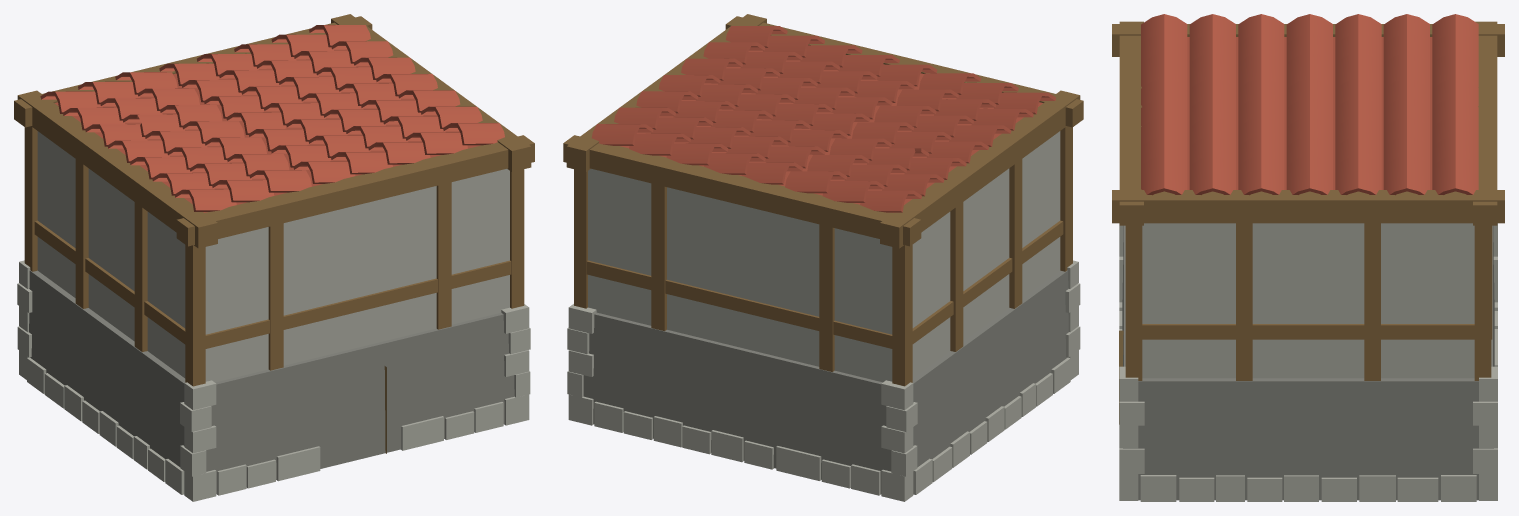
The model's file is casitaStorage.fbx.
3 renders of one model, left to right at view 1: azimuth 30°, elevation 25°; view 2: azimuth 150°, elevation 25°; view 3: azimuth 270°, elevation 25°, orthographic. The views are drawn at different scales.
Parts seen in each view (by area): view 1: Storage_SecondAge_Level2; view 2: Storage_SecondAge_Level2; view 3: Storage_SecondAge_Level2.
Boxes of the visible parts, x1,y1,x2,y2 form: Storage_SecondAge_Level2: (14,14,534,501); Storage_SecondAge_Level2: (563,14,1083,501); Storage_SecondAge_Level2: (1112,14,1504,501).
Bounding box in the file's own units: 109 × 88.12 × 98.32.
